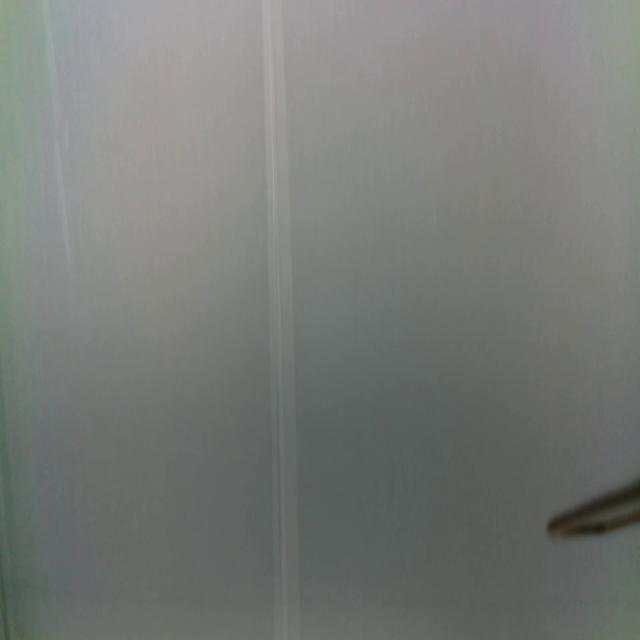crease: (263, 0, 299, 639), (41, 0, 73, 267)
